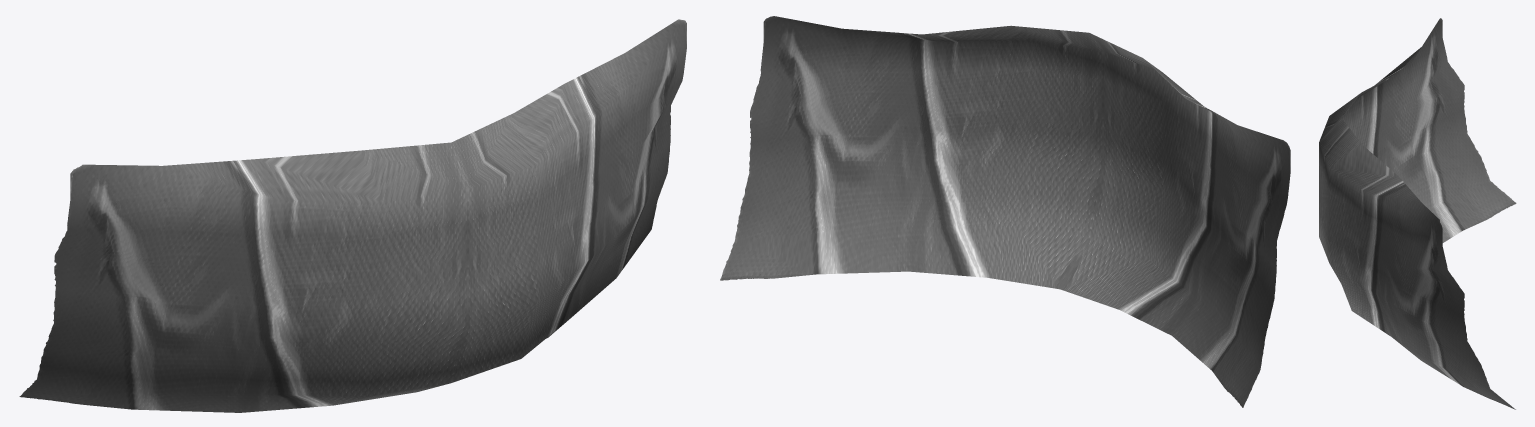
The model's file is DuctTape_smooth.fbx.
3 views of the same model, side by side, from view 1: azimuth 30°, elevation 25°; view 2: azimuth 150°, elevation 25°; view 3: azimuth 270°, elevation 25° (orthographic). The views are drawn at different scales.
Visible parts, largest first — view 1: Cube; view 2: Cube; view 3: Cube.
Part boxes in pixels (x1,y1,x2,y2): Cube: [19, 19, 686, 412]; Cube: [720, 16, 1290, 407]; Cube: [1319, 18, 1516, 409].
Bounding box in the file's own units: 8.07 × 3.44 × 3.3.
1 material, 1 textured.
